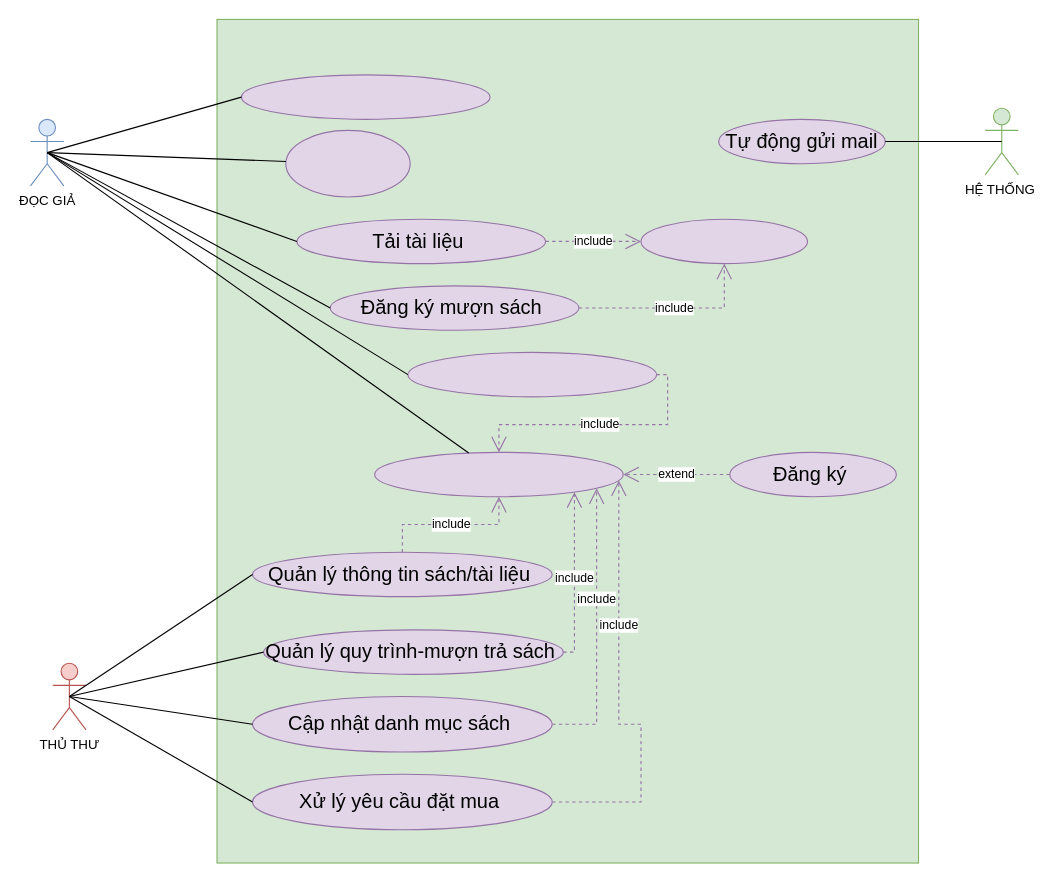
This 1058x882 diagram has some shape labels left out. The shapes that lost their labels are listed below. From the top down, each one's box as (x1, y1, x2, y2) in pixels, then its label:
(240, 74, 490, 119): Tìm kiếm tài liệu
(285, 129, 410, 197): Đọc Trực Tuyến
(640, 218, 808, 264): Nhập mã thư viện
(407, 351, 657, 397): Đặt mua
(374, 451, 623, 497): Đăng nhập
